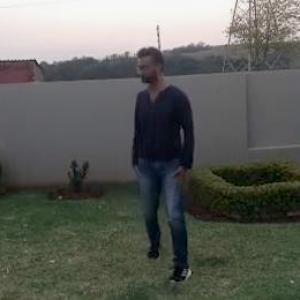follow: (132, 38, 200, 283)
